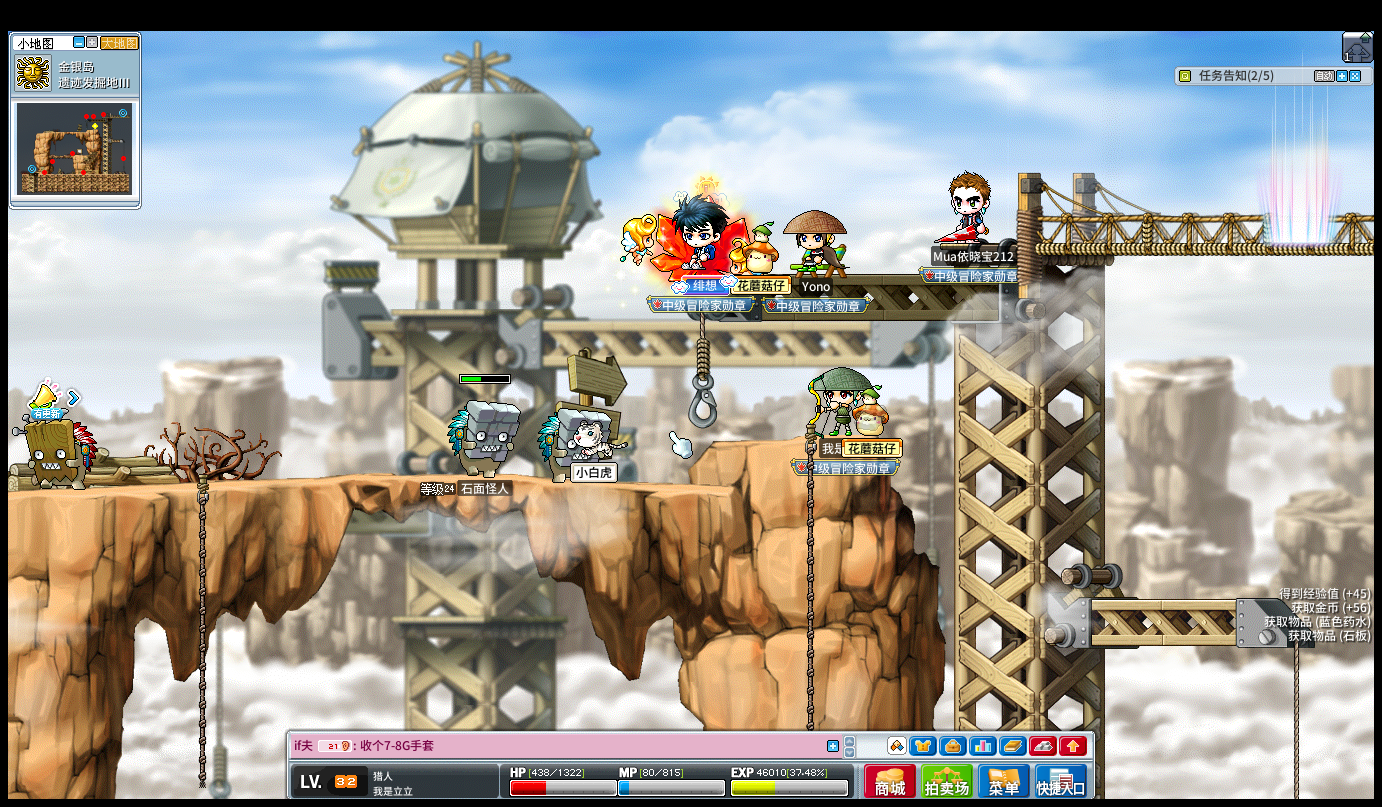floor: (10, 469, 770, 499), (33, 470, 768, 491)
monster: (18, 401, 97, 491), (448, 400, 521, 476), (537, 407, 587, 484)
rope: (193, 467, 207, 807), (802, 437, 817, 724), (1289, 642, 1303, 793)
